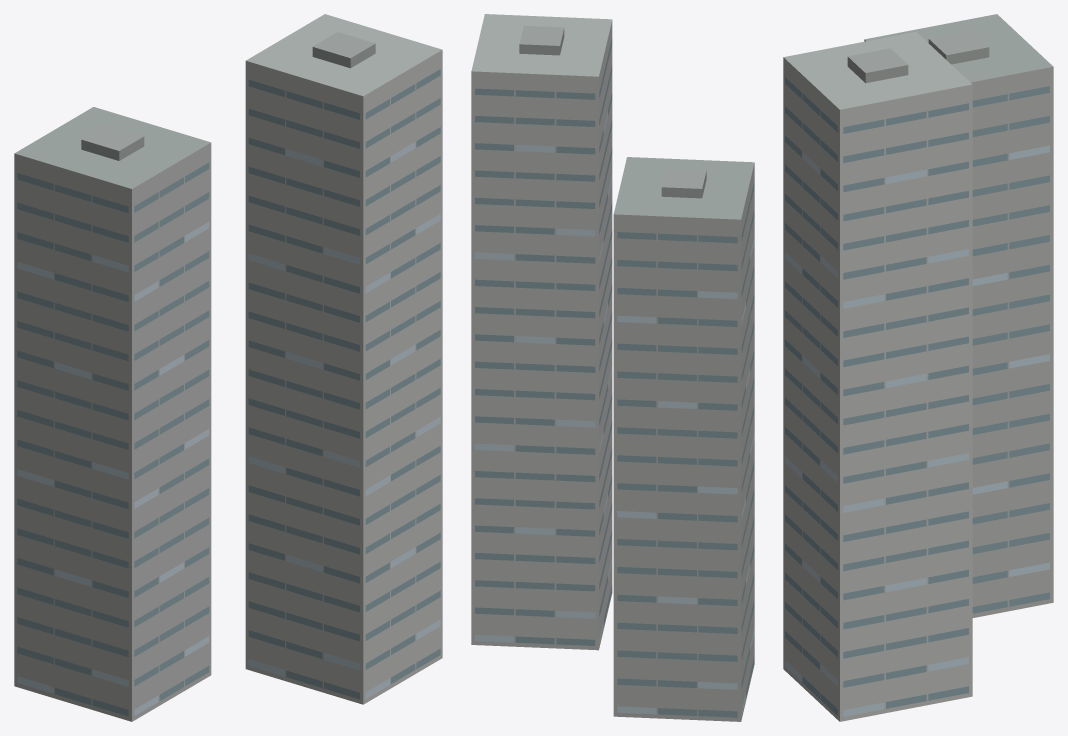
The model's file is apt-a10027908.glb.
3 views of the same model, side by side, from view 1: azimuth 30°, elevation 25°; view 2: azimuth 150°, elevation 25°; view 3: azimuth 270°, elevation 25° (orthographic). The views are drawn at different scales.
Visible parts, largest first — view 1: apt-a10027908; view 2: apt-a10027908; view 3: apt-a10027908.
Boxes of the visible parts, x1,y1,x2,y2 form: apt-a10027908: (14, 14, 442, 721); apt-a10027908: (471, 14, 754, 721); apt-a10027908: (783, 14, 1053, 721).
Bounding box in the file's own units: 87.25 × 147 × 57.94.
